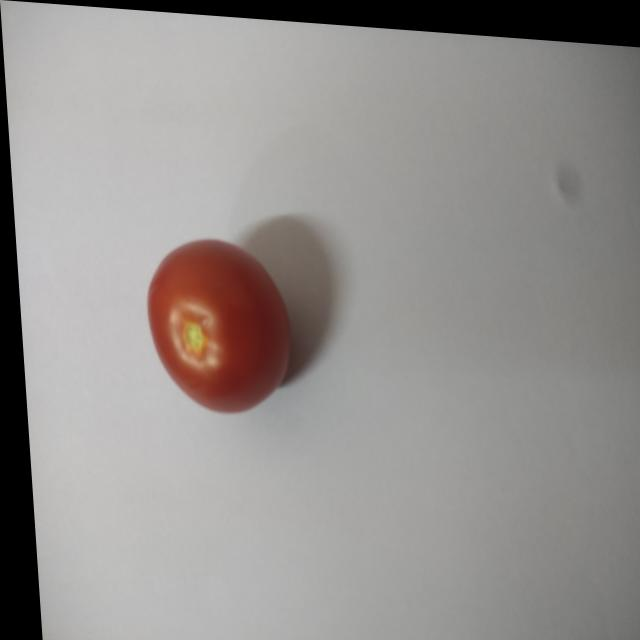kirmizi: (130, 223, 310, 428)
